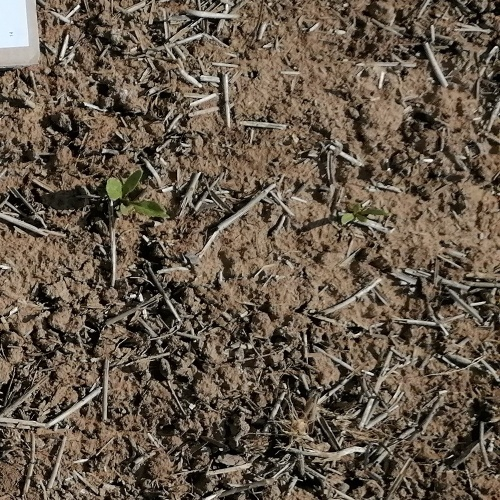beet: (108, 171, 167, 219), (343, 196, 392, 228)
